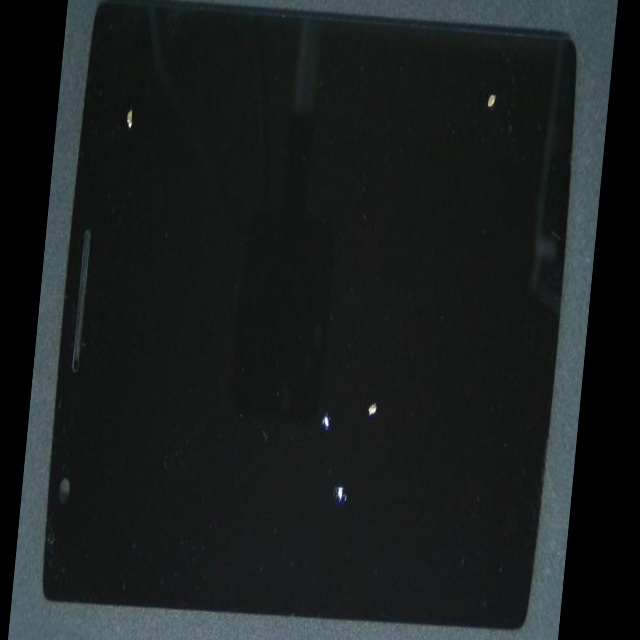stain: (123, 123, 473, 640), (197, 191, 570, 639), (177, 226, 537, 640), (290, 15, 614, 167), (97, 49, 186, 210)
